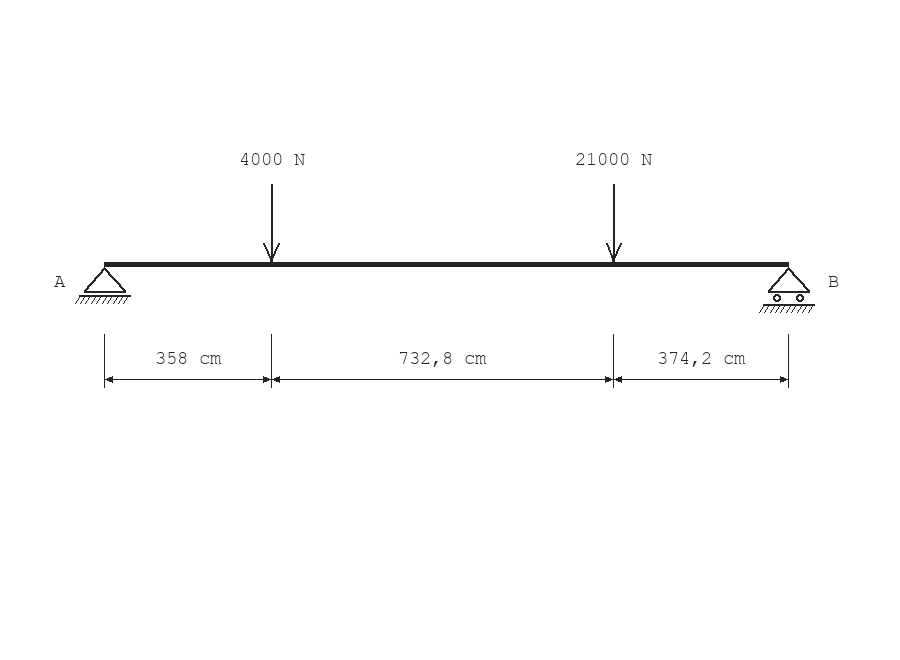pin_support: (75, 267, 131, 304)
point_load: (263, 184, 280, 262), (606, 184, 622, 262)
roller_support: (759, 267, 815, 313)
